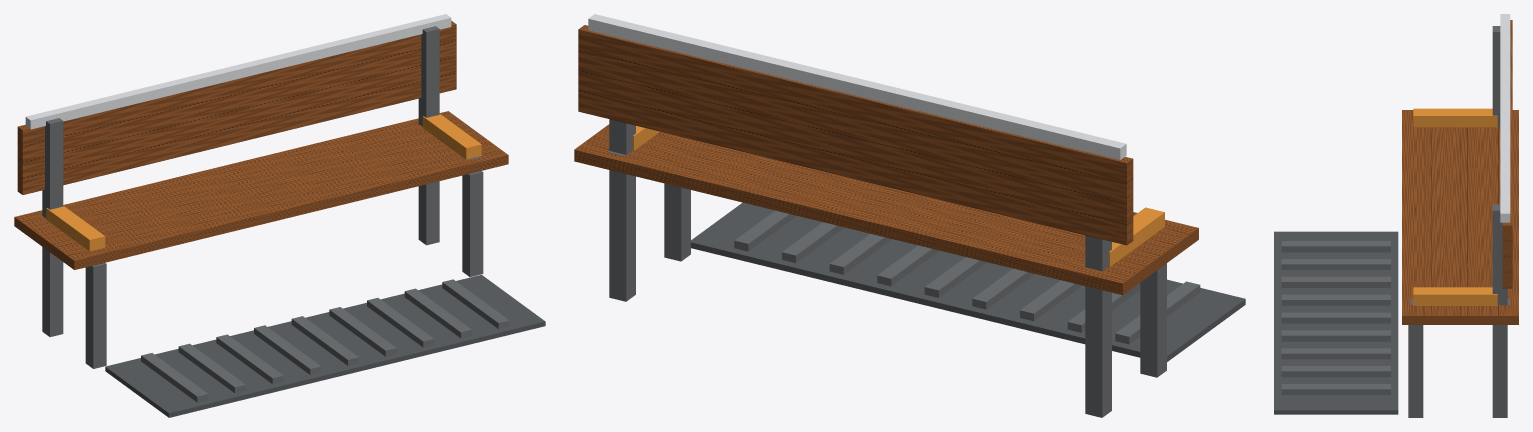
File: tool-hire-depot-and-plant-yard-tool-hire-depot-and-pla-41ebbf63__35304.glb
3 views of the same model, side by side, from view 1: azimuth 30°, elevation 25°; view 2: azimuth 150°, elevation 25°; view 3: azimuth 270°, elevation 25° (orthographic). The views are drawn at different scales.
Visible parts, largest first — view 1: tool-hire-depot-and-plant-yard-waiting-bench; view 2: tool-hire-depot-and-plant-yard-waiting-bench; view 3: tool-hire-depot-and-plant-yard-waiting-bench.
Boxes of the visible parts, <box> form: tool-hire-depot-and-plant-yard-waiting-bench: <box>14,14,545,417</box>; tool-hire-depot-and-plant-yard-waiting-bench: <box>574,14,1245,417</box>; tool-hire-depot-and-plant-yard-waiting-bench: <box>1274,14,1518,417</box>.
Size of the model in its own units: 1.96 by 0.94 by 0.9849.
5 materials, 1 textured.
